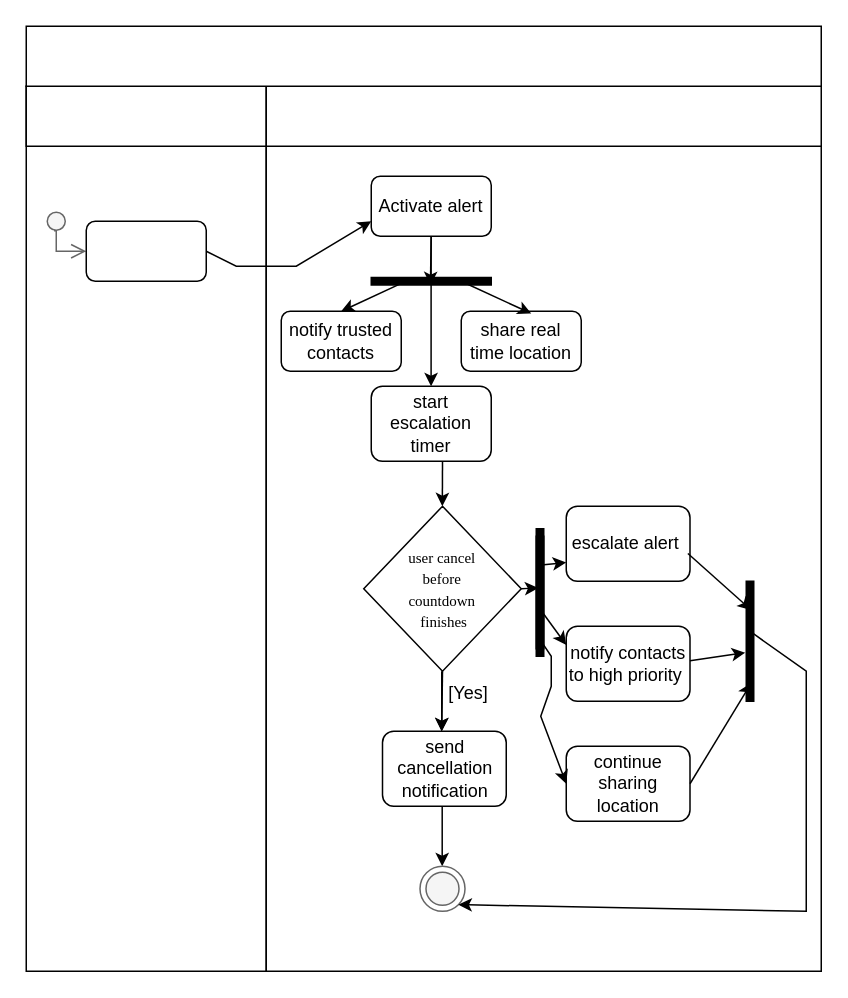
This 848x998 diagram has some shape labels left out. Each missing label, with the centre of its shape:
SOS alert trigger and esclation: [423,55]
System: [543,115]
User: [145,115]
user triggers SOS: [145,250]
